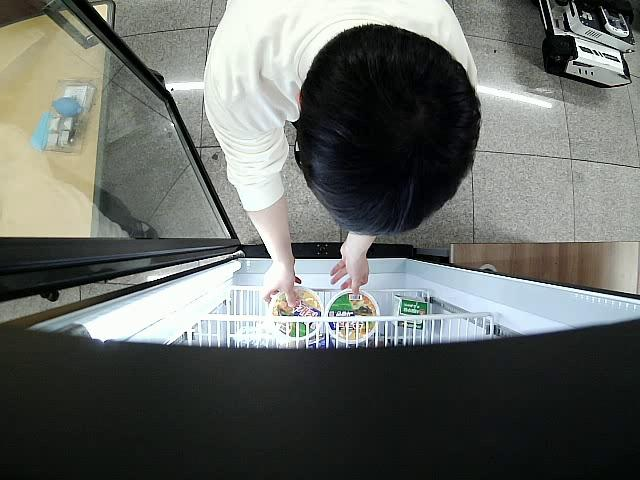00_hand: (331, 241, 369, 295), (264, 259, 302, 307)
09_yukGaeJang: (325, 290, 379, 343), (271, 288, 323, 339)
